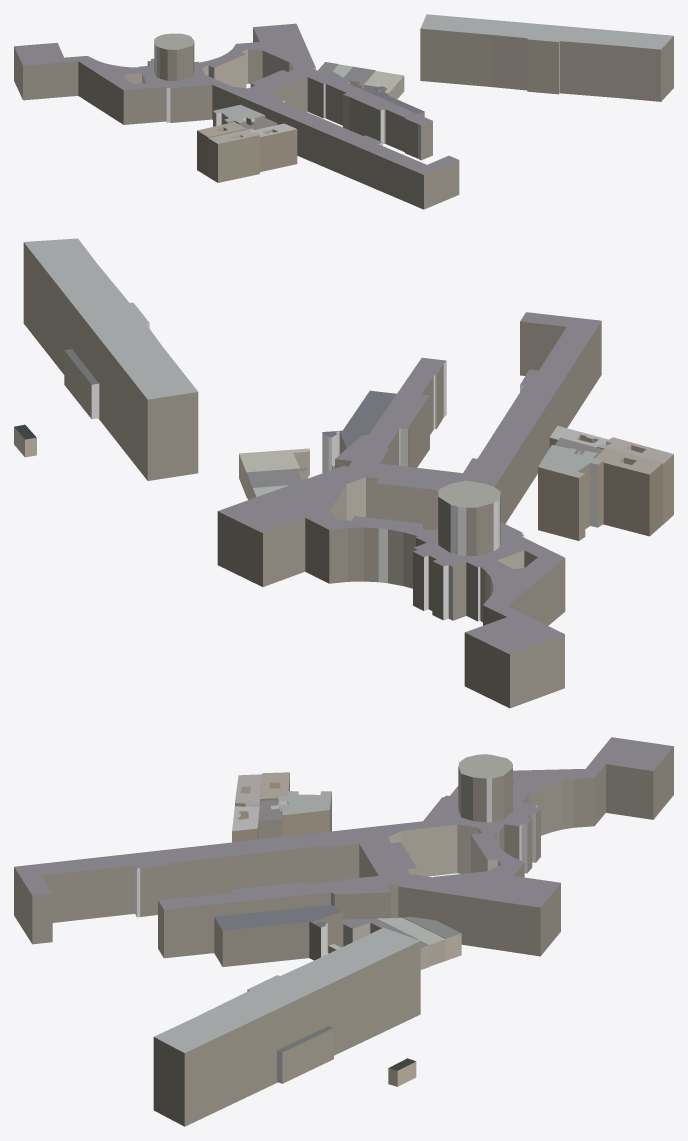
The picture shows the model from 3 angles, top to bottom: view 1: azimuth 30°, elevation 25°; view 2: azimuth 150°, elevation 25°; view 3: azimuth 270°, elevation 25°; orthographic projection. The views are drawn at different scales.
Parts seen in each view (by area): view 1: tuile; view 2: tuile; view 3: tuile.
Part boxes in pixels (x1=…): tuile: x1=14, y1=14, x2=673, y2=209; tuile: x1=14, y1=238, x2=673, y2=708; tuile: x1=14, y1=737, x2=673, y2=1126.
Bounding box in the file's own units: 261 × 34.82 × 212.
